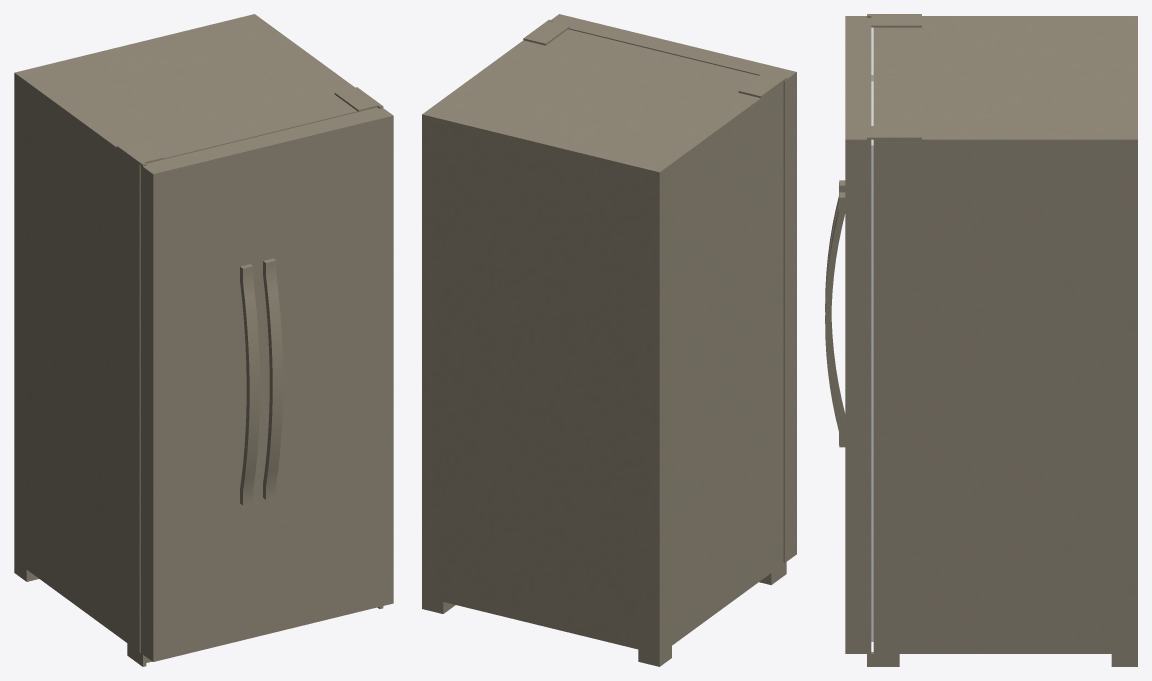
Rendered from Refrigerator05.fbx.
3 views of the same model, side by side, from view 1: azimuth 30°, elevation 25°; view 2: azimuth 150°, elevation 25°; view 3: azimuth 270°, elevation 25° (orthographic). The views are drawn at different scales.
Parts seen in each view (by area): view 1: Refrigerator05, Refrigerator05_Door01, Refrigerator05_Door02; view 2: Refrigerator05, Refrigerator05_Door02, Refrigerator05_Door01; view 3: Refrigerator05, Refrigerator05_Door01, Refrigerator05_Door02.
Boxes of the visible parts, x1,y1,x2,y2 form: Refrigerator05: (14,14,383,666); Refrigerator05_Door01: (245,107,393,636); Refrigerator05_Door02: (140,140,259,661); Refrigerator05: (422,19,786,666); Refrigerator05_Door02: (682,47,796,563); Refrigerator05_Door01: (551,14,693,56); Refrigerator05: (867,14,1137,666); Refrigerator05_Door01: (825,69,873,653); Refrigerator05_Door02: (825,16,873,424).
Bounding box in the file's own units: 92.87 × 185 × 99.27.
